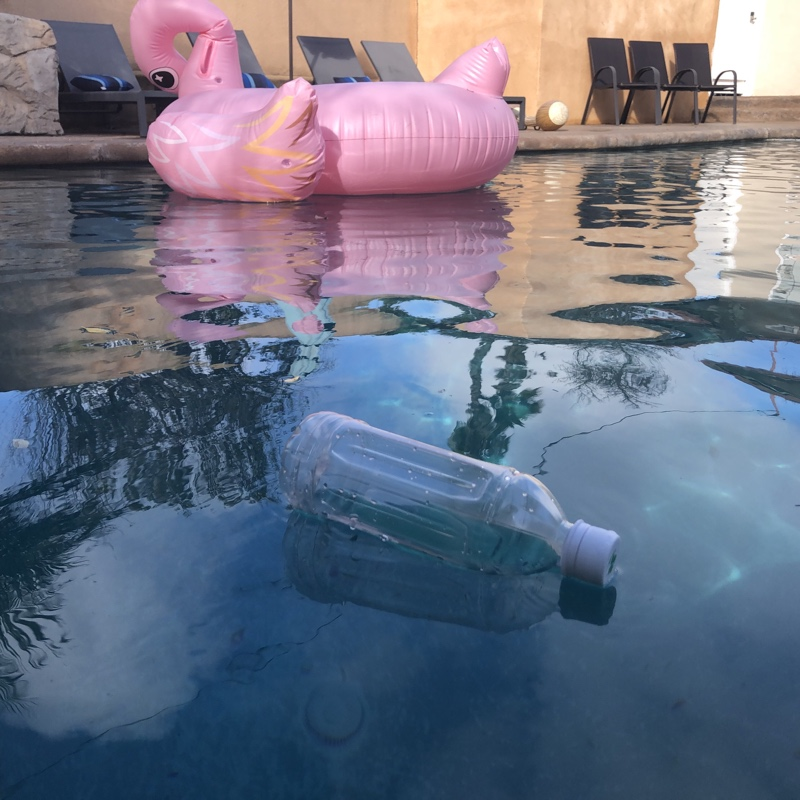Plastic Bottle: (276, 409, 627, 591)
